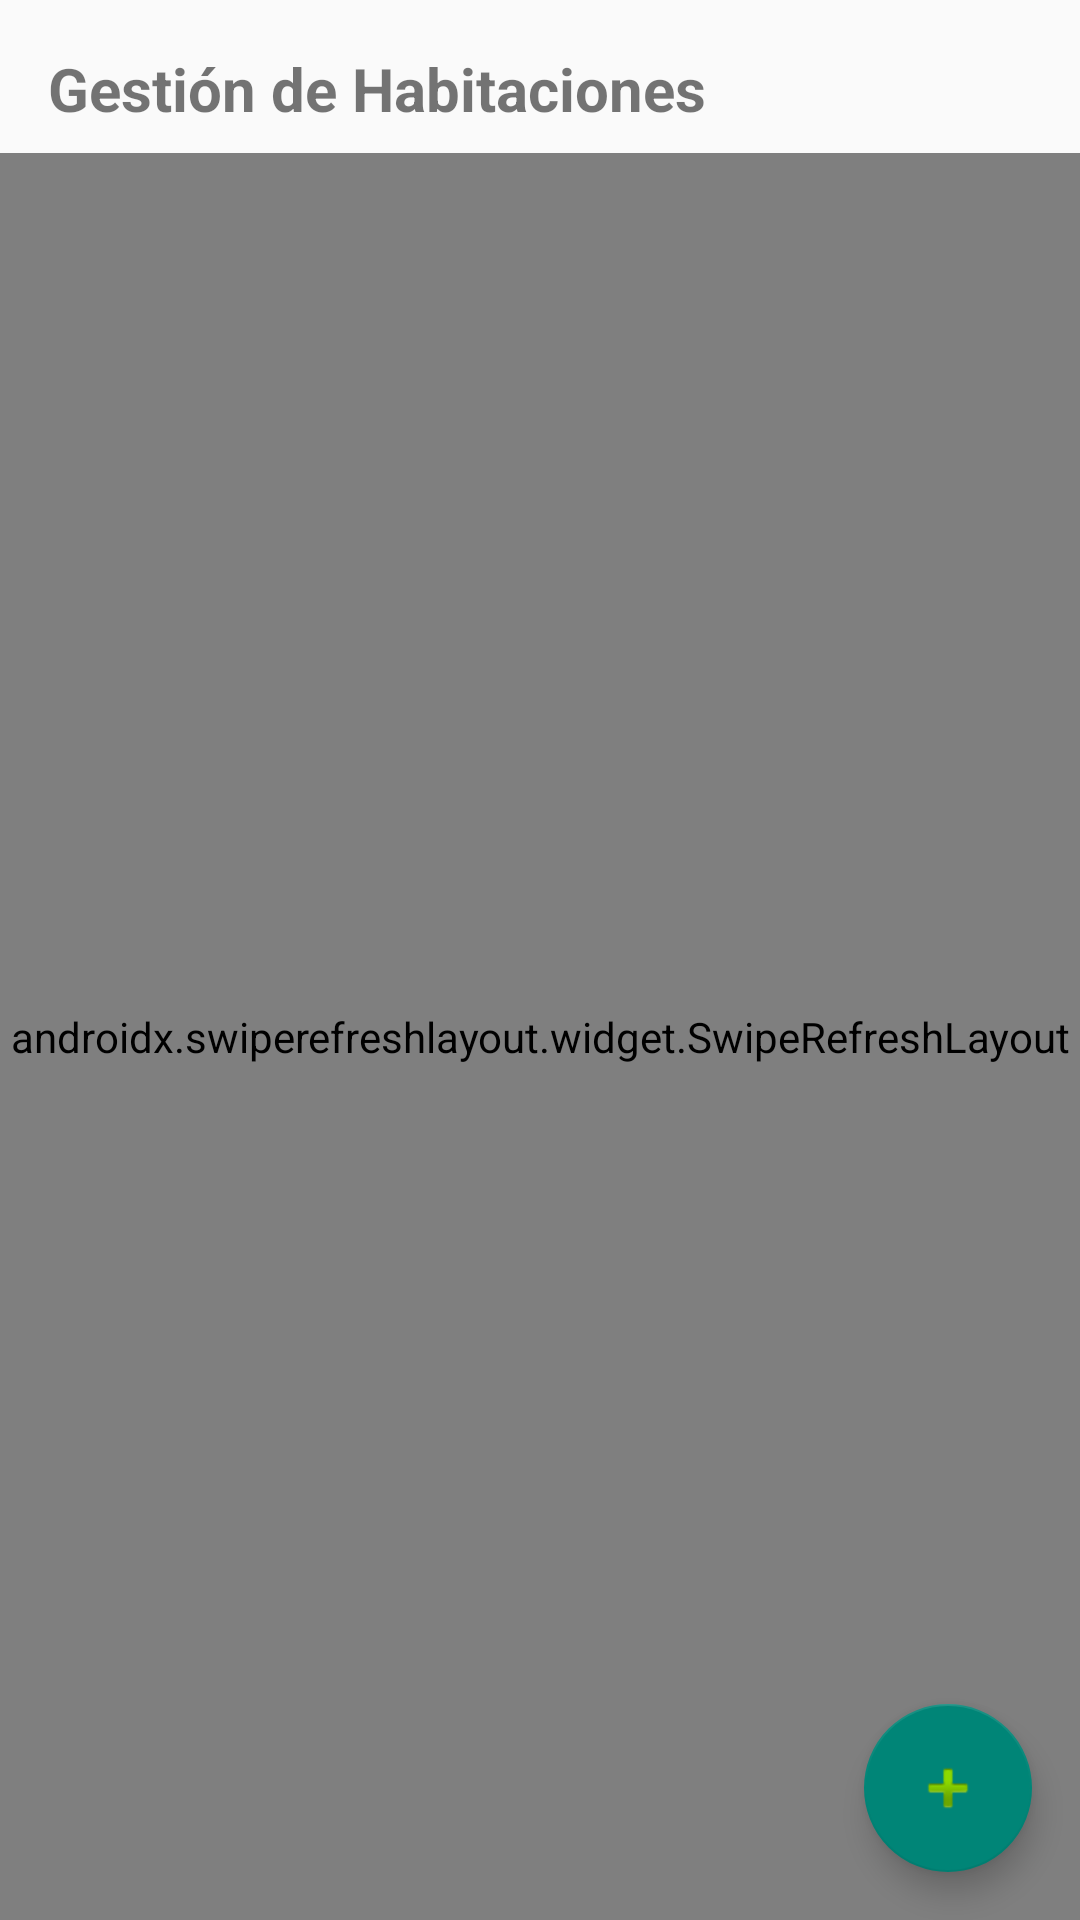

Icon bounding boxes for this 1080x1920 phone screenshot, format box=[x1, y1, x2, y2]:
Añadir habitación: box=[864, 1704, 1032, 1872]
